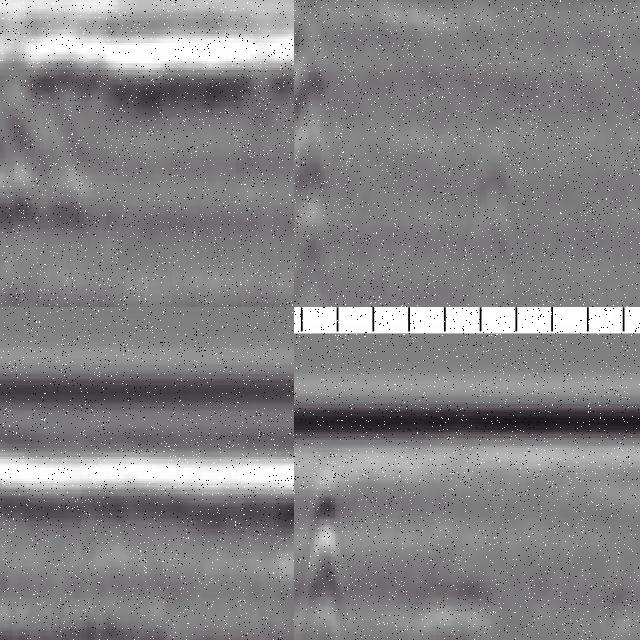crack: (295, 5, 329, 308), (296, 463, 350, 640)
loose: (1, 16, 177, 226)
